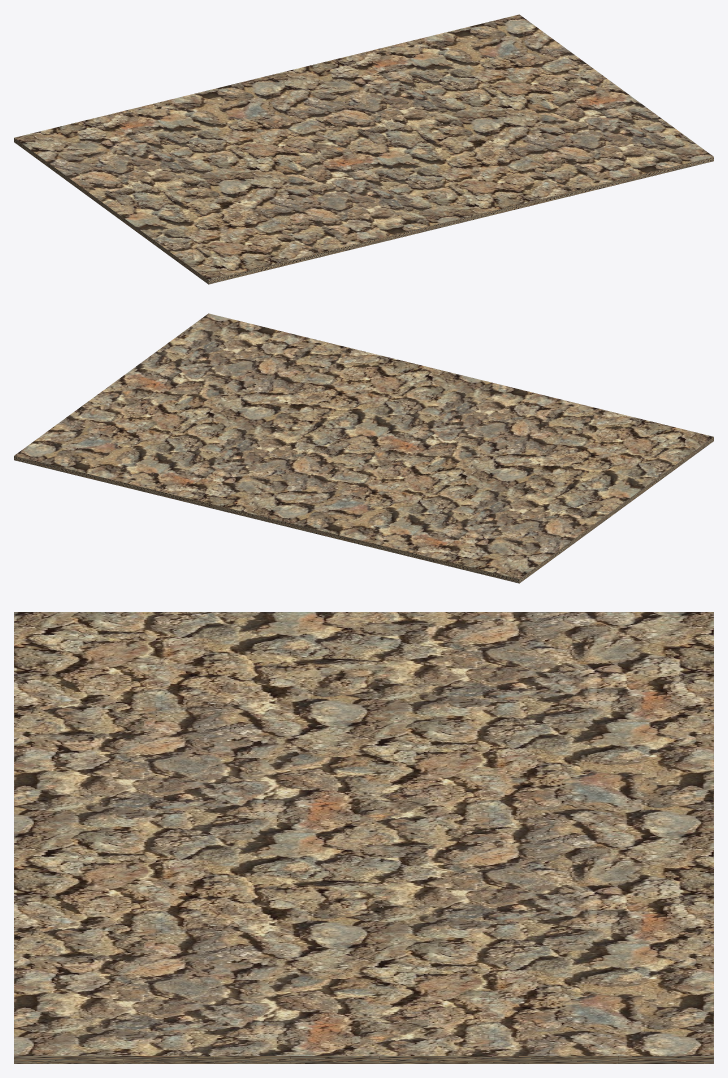
File: Block Rectangle2_120.fbx
The picture shows the model from 3 angles, top to bottom: view 1: azimuth 30°, elevation 25°; view 2: azimuth 150°, elevation 25°; view 3: azimuth 270°, elevation 25°; orthographic projection. The views are drawn at different scales.
Visible parts, largest first — view 1: Block_Rectangle2_sh_38, Block_Rectangle2_sh_77, Block_Rectangle2_sh_73, Block_Rectangle2_sh_96, Block_Rectangle2_sh_24, Block_Rectangle2_sh_64, Block_Rectangle2_sh_54, Block_Rectangle2_sh_15, Block_Rectangle2_sh_91, Block_Rectangle2_sh_80, Block_Rectangle2_sh_4, Block_Rectangle2_sh_50 (+93 smaller); view 2: Block_Rectangle2_sh_73, Block_Rectangle2_sh_38, Block_Rectangle2_sh_77, Block_Rectangle2_sh_24, Block_Rectangle2_sh_15, Block_Rectangle2_sh_91, Block_Rectangle2_sh_116, Block_Rectangle2_sh_4, Block_Rectangle2_sh_23, Block_Rectangle2_sh_44, Block_Rectangle2_sh_94, Block_Rectangle2_sh_96 (+92 smaller); view 3: Block_Rectangle2_sh_38, Block_Rectangle2_sh_77, Block_Rectangle2_sh_73, Block_Rectangle2_sh_61, Block_Rectangle2_sh_23, Block_Rectangle2_sh_24, Block_Rectangle2_sh_108, Block_Rectangle2_sh_15, Block_Rectangle2_sh_91, Block_Rectangle2_sh_4, Block_Rectangle2_sh_104, Block_Rectangle2_sh_96 (+107 smaller).
Part boxes in pixels (x1,y1,x2,y2): Block_Rectangle2_sh_38: (403, 99, 477, 137); Block_Rectangle2_sh_77: (641, 134, 713, 173); Block_Rectangle2_sh_73: (376, 26, 472, 58); Block_Rectangle2_sh_96: (572, 162, 663, 189); Block_Rectangle2_sh_24: (248, 183, 314, 219); Block_Rectangle2_sh_64: (215, 246, 281, 282); Block_Rectangle2_sh_54: (265, 240, 350, 266); Block_Rectangle2_sh_15: (381, 85, 471, 109); Block_Rectangle2_sh_91: (274, 142, 373, 164); Block_Rectangle2_sh_80: (529, 162, 595, 199); Block_Rectangle2_sh_4: (267, 217, 329, 240); Block_Rectangle2_sh_50: (489, 182, 554, 214); Block_Rectangle2_sh_73: (61, 453, 157, 495); Block_Rectangle2_sh_38: (212, 414, 308, 448); Block_Rectangle2_sh_77: (178, 313, 258, 345); Block_Rectangle2_sh_24: (467, 438, 556, 465); Block_Rectangle2_sh_15: (191, 431, 264, 466); Block_Rectangle2_sh_91: (360, 438, 432, 477); Block_Rectangle2_sh_116: (229, 491, 296, 524); Block_Rectangle2_sh_4: (527, 412, 602, 441); Block_Rectangle2_sh_23: (107, 369, 188, 394); Block_Rectangle2_sh_44: (500, 517, 575, 547); Block_Rectangle2_sh_94: (378, 435, 467, 461); Block_Rectangle2_sh_96: (253, 326, 326, 362); Block_Rectangle2_sh_38: (326, 885, 460, 947); Block_Rectangle2_sh_77: (14, 1007, 125, 1063); Block_Rectangle2_sh_73: (599, 930, 713, 1014); Block_Rectangle2_sh_61: (379, 1014, 531, 1063); Block_Rectangle2_sh_23: (286, 1006, 394, 1063); Block_Rectangle2_sh_24: (170, 708, 302, 766); Block_Rectangle2_sh_108: (185, 1003, 290, 1063); Block_Rectangle2_sh_15: (446, 892, 542, 956); Block_Rectangle2_sh_91: (322, 772, 434, 837); Block_Rectangle2_sh_4: (52, 687, 174, 747); Block_Rectangle2_sh_104: (281, 926, 427, 976); Block_Rectangle2_sh_96: (14, 951, 121, 1011).
Bounding box in the file's own units: 3000 × 25 × 2000.
1 material, 1 textured.
